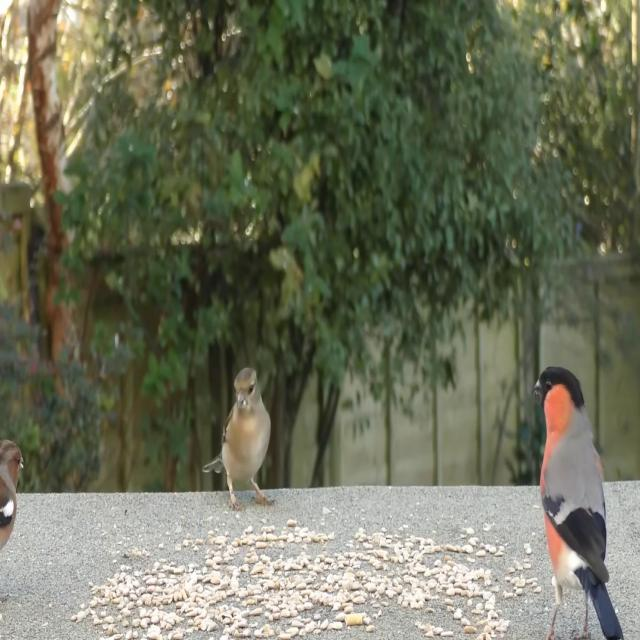beak: (530, 366, 548, 409), (236, 388, 248, 408), (18, 450, 25, 471)
bird: (526, 361, 630, 640), (201, 358, 279, 518), (0, 433, 24, 623)
